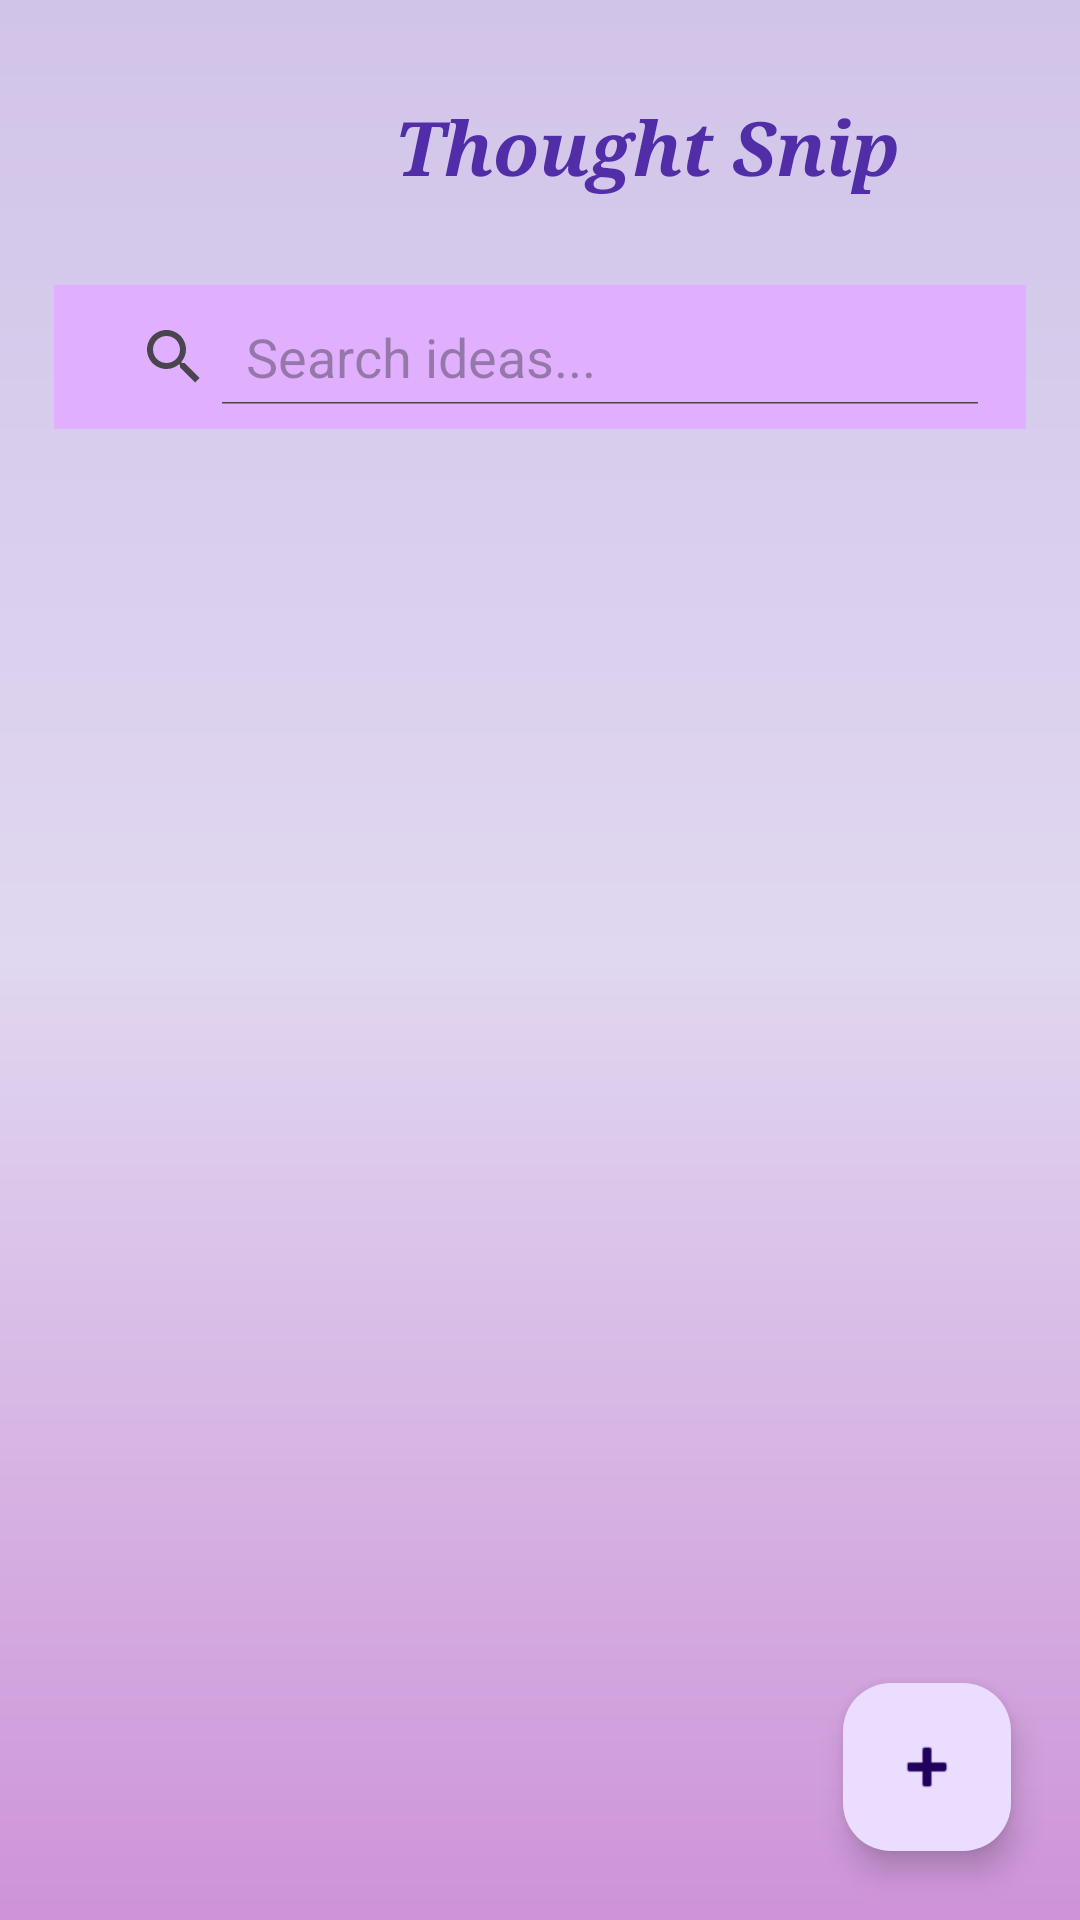

Screen size 1080×1920. Icon name, then its box in pixels as (x1, y1, x2, y2):
Add Idea: (843, 1683, 1011, 1851)
